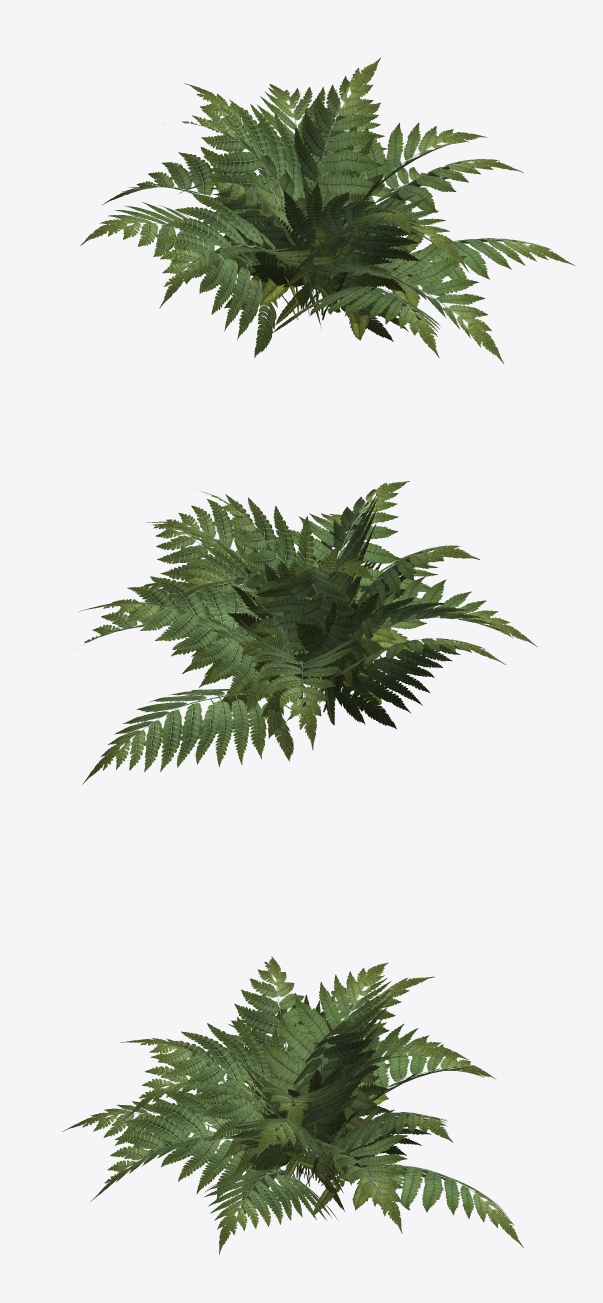
The model's file is tree6.fbx.
3 views of the same model, one above another, from view 1: azimuth 30°, elevation 25°; view 2: azimuth 150°, elevation 25°; view 3: azimuth 270°, elevation 25° (orthographic). The views are drawn at different scales.
Parts seen in each view (by area): view 1: SM_MZRa_Fern_B051; view 2: SM_MZRa_Fern_B051; view 3: SM_MZRa_Fern_B051.
Part boxes in pixels (box(x1,y1,x2,y2)): SM_MZRa_Fern_B051: box(80, 58, 574, 363); SM_MZRa_Fern_B051: box(78, 481, 537, 784); SM_MZRa_Fern_B051: box(62, 956, 523, 1254).
Size of the model in its own units: 276 by 152 by 278.
